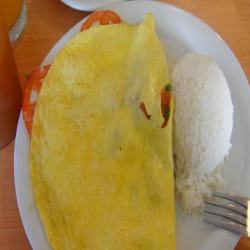omelette: (26, 22, 181, 250)
rice: (168, 51, 241, 207)
